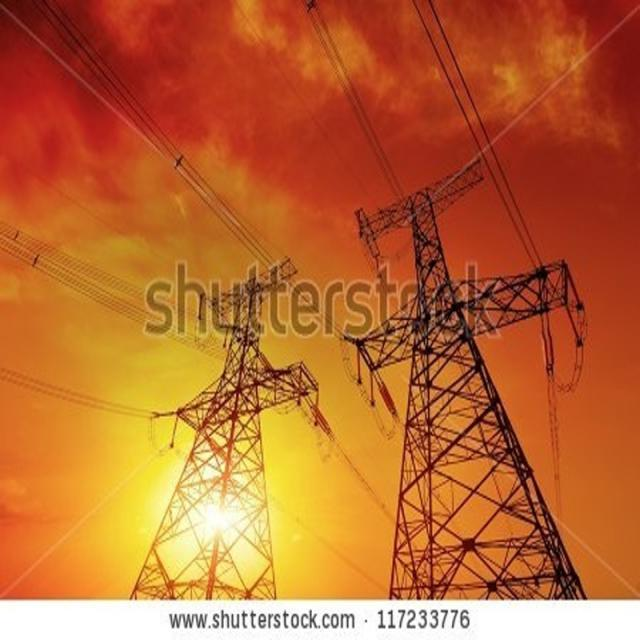non-critical vegetation: (350, 180, 582, 600), (156, 272, 294, 596)
